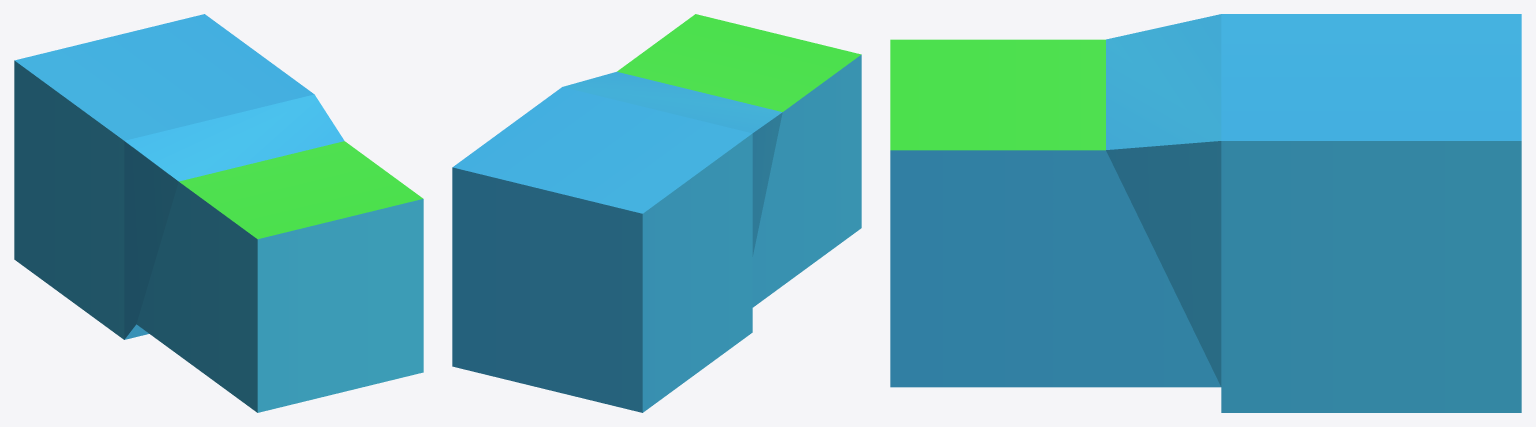
The model's file is thingy.glb.
The picture shows the model from 3 angles, left to right: view 1: azimuth 30°, elevation 25°; view 2: azimuth 150°, elevation 25°; view 3: azimuth 270°, elevation 25°; orthographic projection. The views are drawn at different scales.
Parts seen in each view (by area): view 1: thingy; view 2: thingy; view 3: thingy.
Boxes of the visible parts, x1,y1,x2,y2 form: thingy: (14, 14, 423, 412); thingy: (452, 14, 861, 412); thingy: (890, 14, 1521, 412).
Size of what is drawn, in the model's own units: 2 by 2 by 4.21.
Materials: 1 (1 with a texture image).
